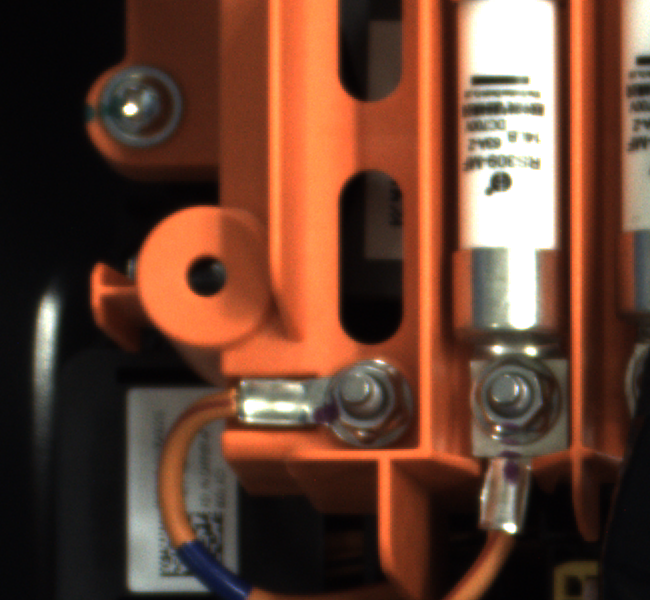screw_m: (86, 63, 204, 148)
screw_s: (466, 361, 580, 459), (312, 357, 418, 452)
